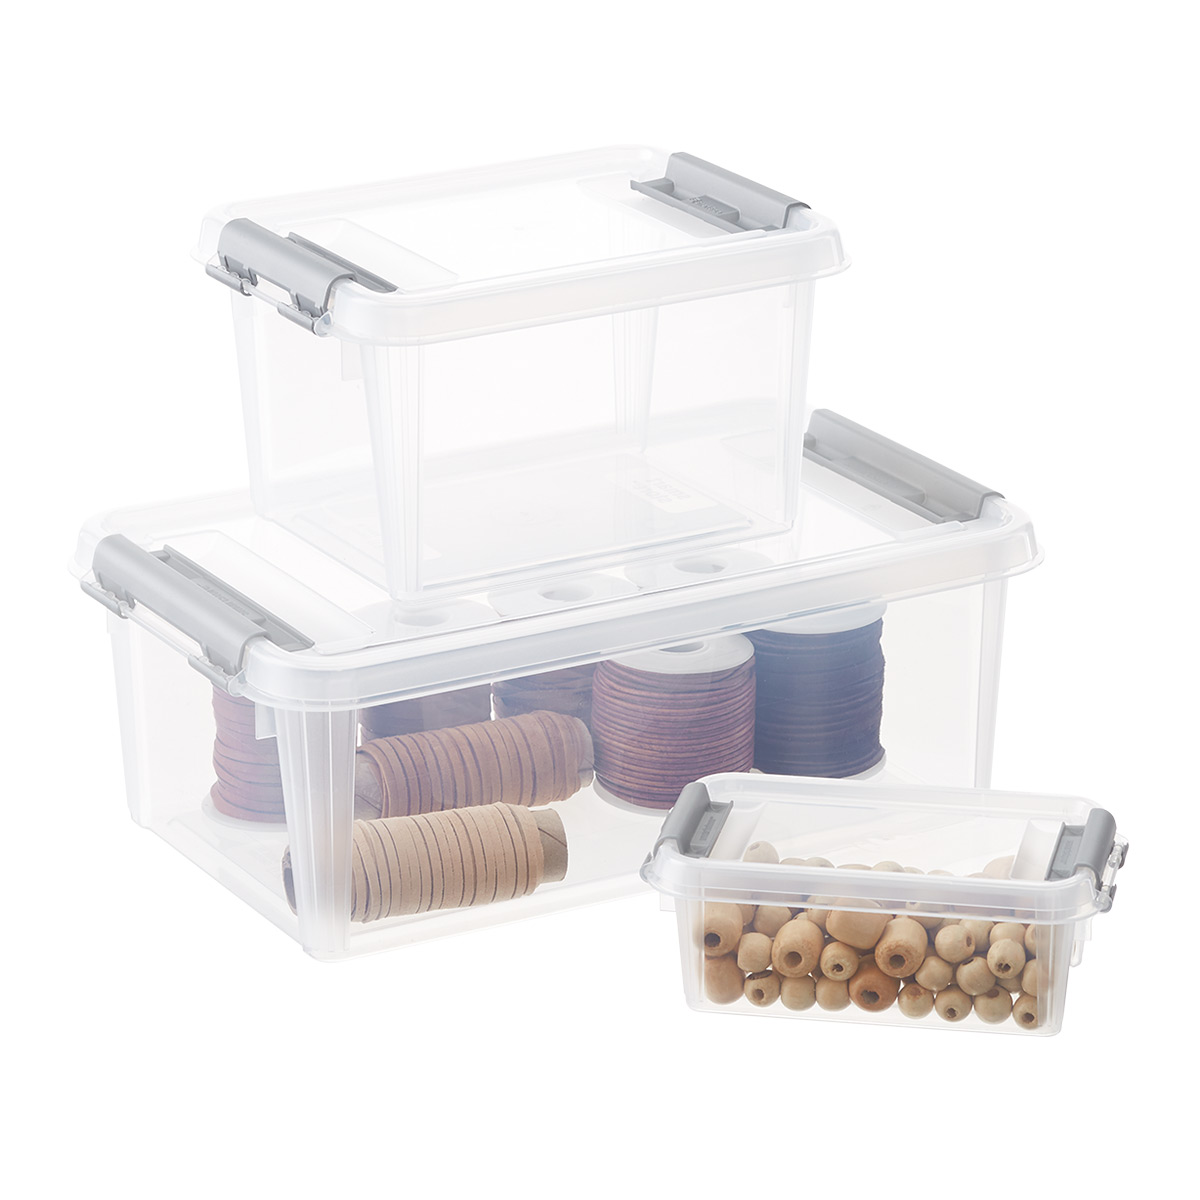PlasticBox: (633, 763, 1134, 1045)
